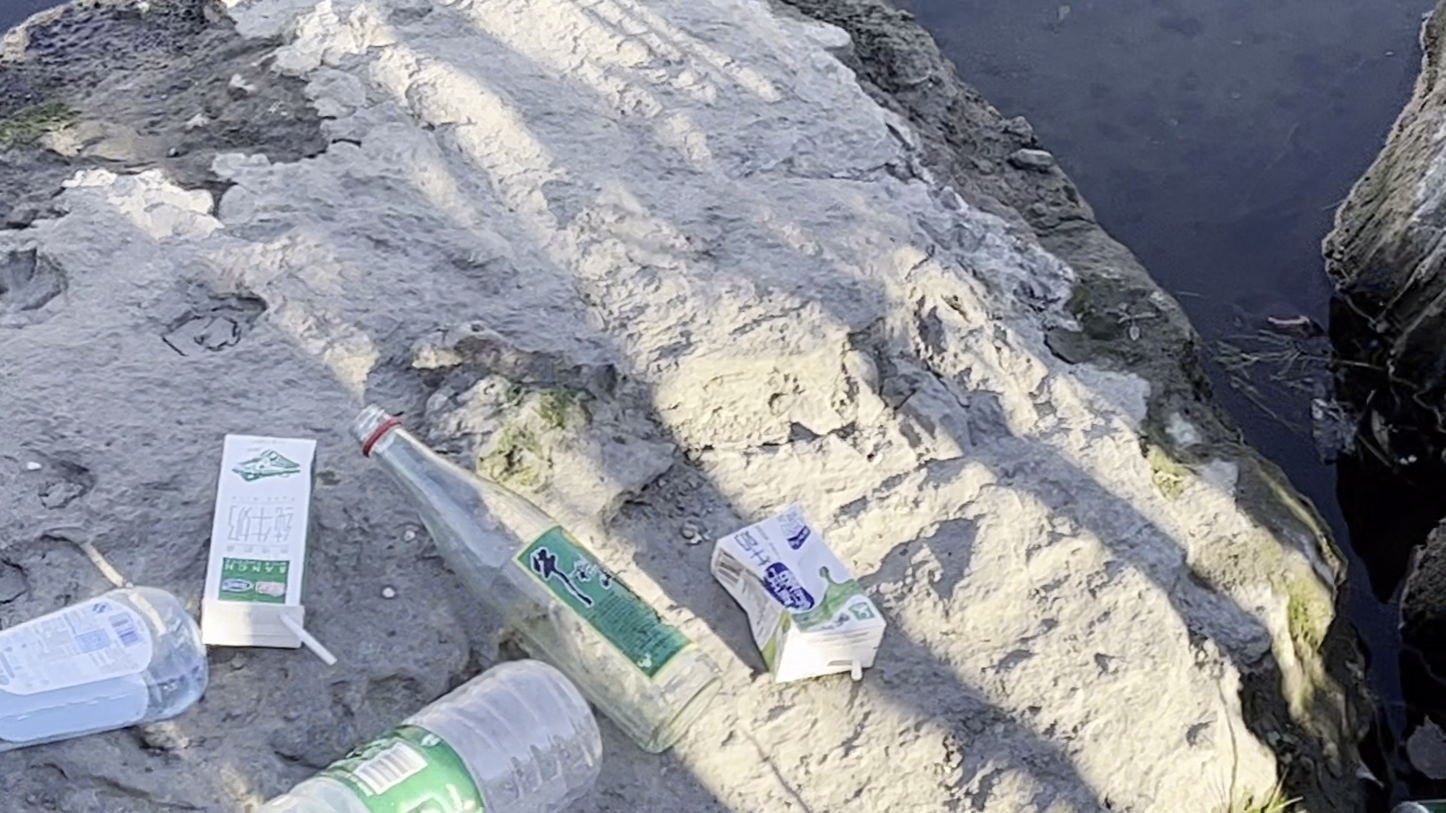floater: (353, 400, 705, 716), (218, 661, 613, 809), (688, 504, 885, 686), (200, 418, 337, 648), (5, 592, 211, 728)
